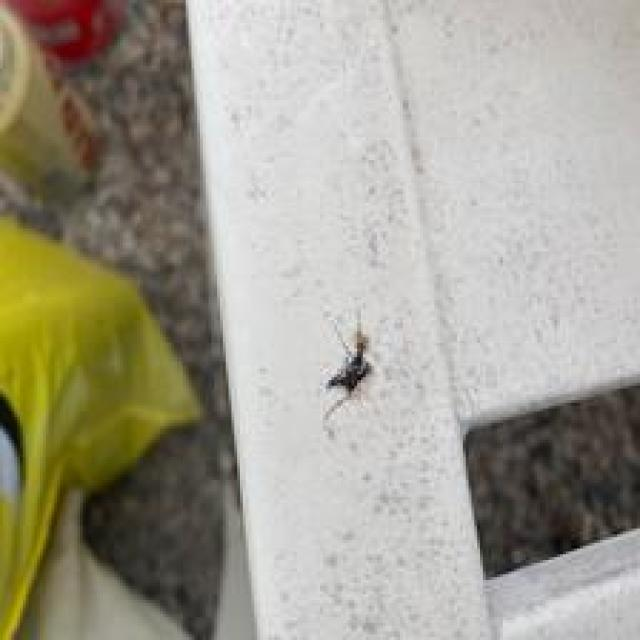Aedes albopictus: (321, 318, 376, 422)
